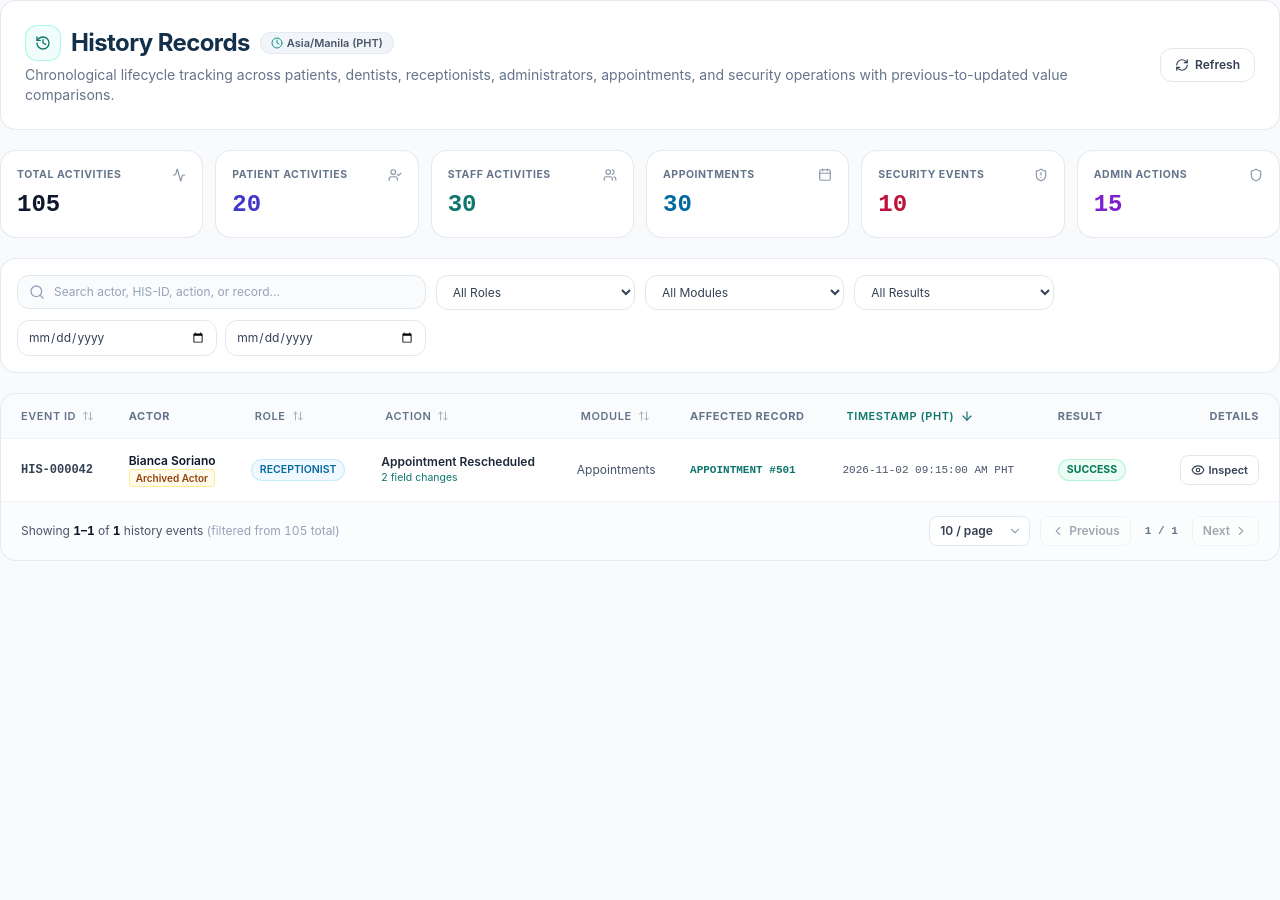
Test: HistoryRecordsPage (Phase 3 Centralized History Records) › renders 6 database-backed KPI cards, archived-actor badge, Before->After diff modal, and individual record timeline
Check: the heading "History Records" is shown, box x1=71 y1=27 x2=250 y2=59
Check: the text "105" is shown, box x1=17 y1=191 x2=60 y2=218
Note: Clicking Security KPI triggers server-side category filter
Step 1. Click the button "Security Events 10" → coordinates (963, 194), box x1=861 y1=150 x2=1065 y2=238
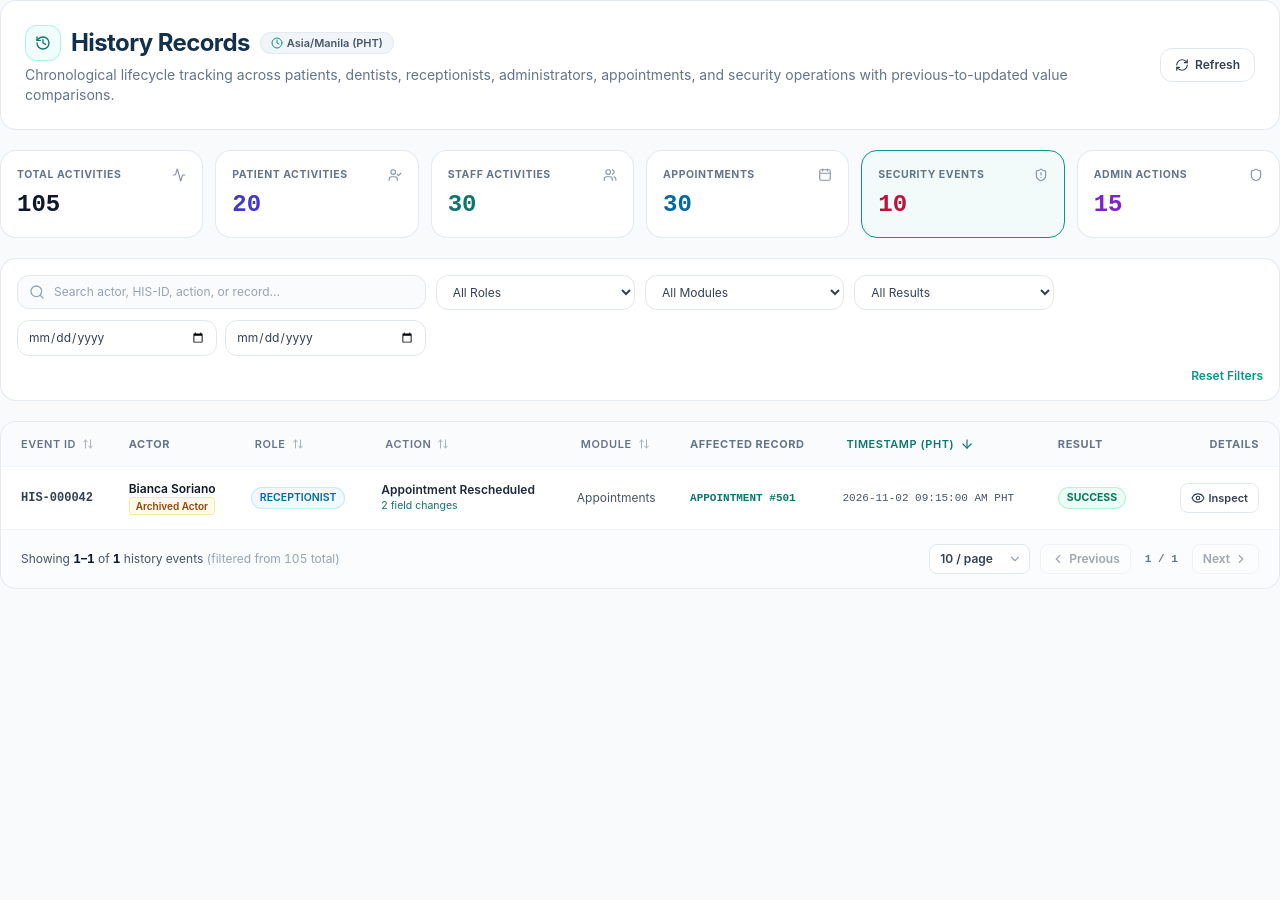
Note: Inspecting event opens Previous vs. Updated Values diff modal
Step 2. Click the button with aria-label "View details for HIS-000042" → coordinates (1219, 498), box x1=1180 y1=483 x2=1259 y2=513
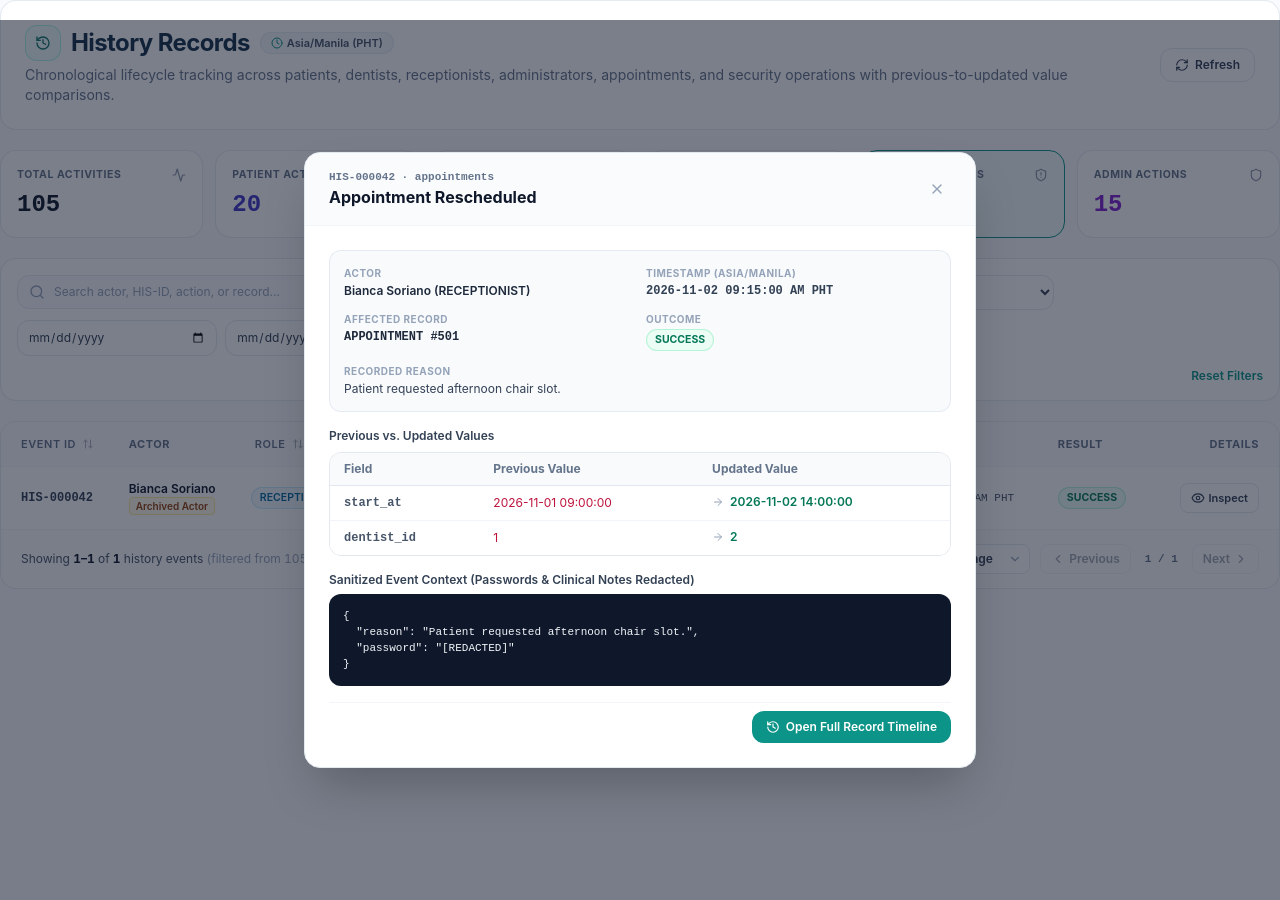
Check: the text "Previous vs. Updated Values" is shown, box x1=329 y1=428 x2=494 y2=443
Check: the text "2026-11-01 09:00:00" is shown, box x1=479 y1=486 x2=698 y2=521
Check: the text "2026-11-02 14:00:00" is shown, box x1=730 y1=494 x2=853 y2=510
Note: Opening full record timeline invokes appointment timeline endpoint
Step 3. Click the button "Open Full Record Timeline" → coordinates (851, 727), box x1=752 y1=711 x2=951 y2=743
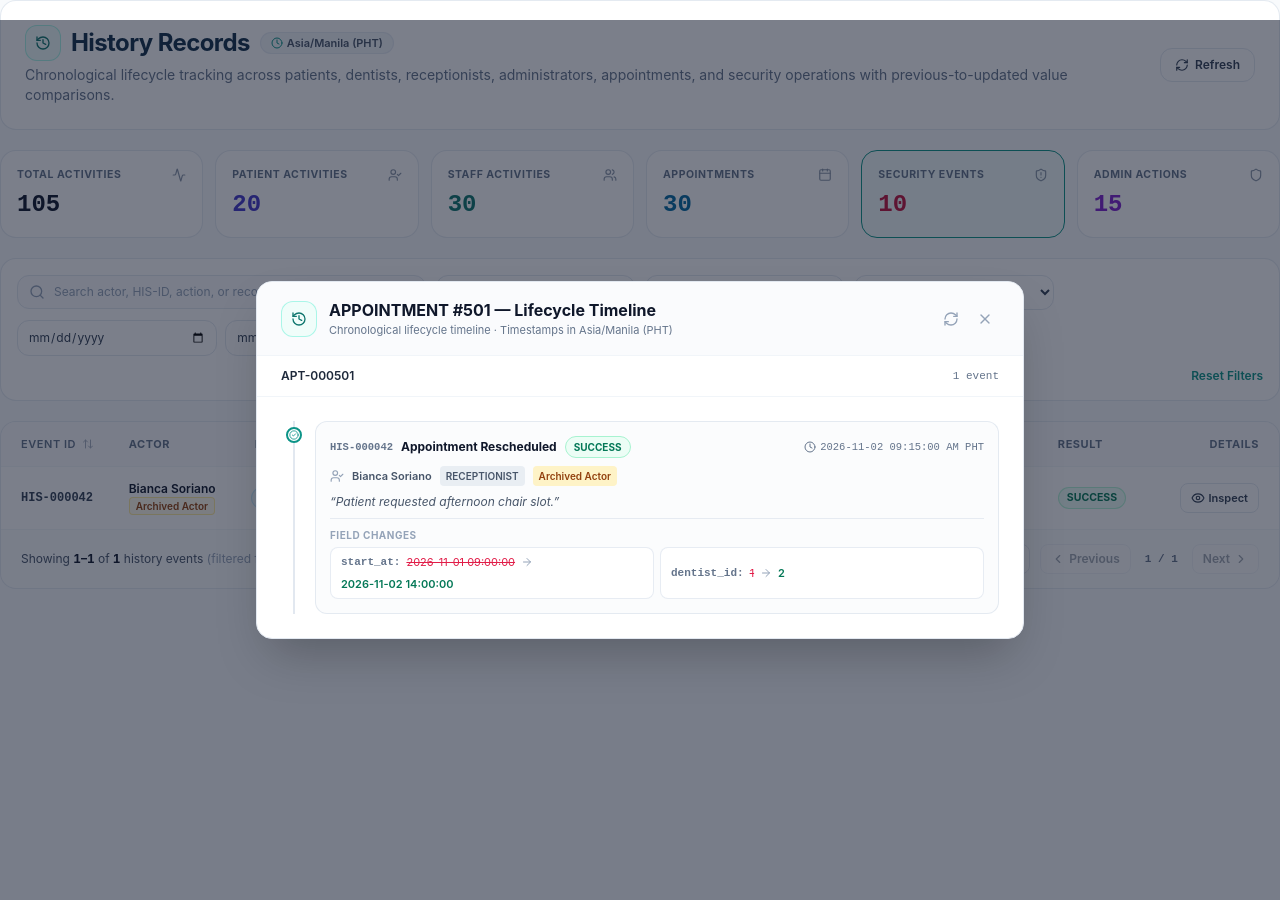
Check: the text "APT-000501" is shown, box x1=281 y1=368 x2=354 y2=384
